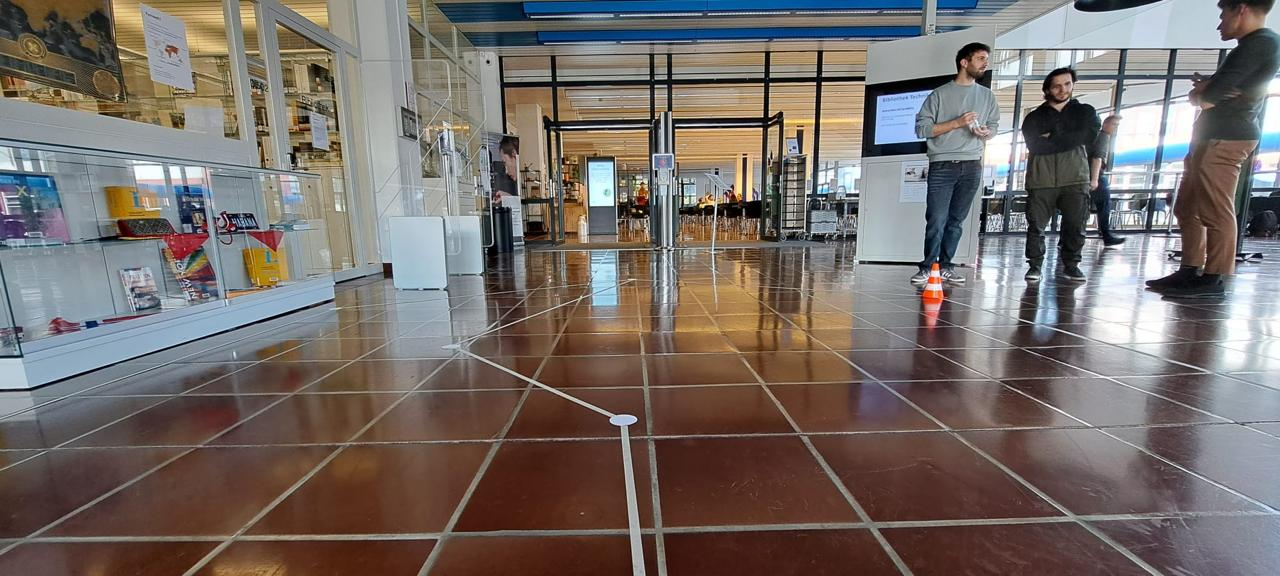dot: (610, 414, 636, 425), (444, 344, 458, 350), (330, 307, 343, 310), (628, 279, 637, 280)
line: (33, 168, 657, 448), (456, 280, 631, 344), (457, 348, 613, 417), (620, 426, 645, 575)
pylons: (922, 264, 947, 298)
